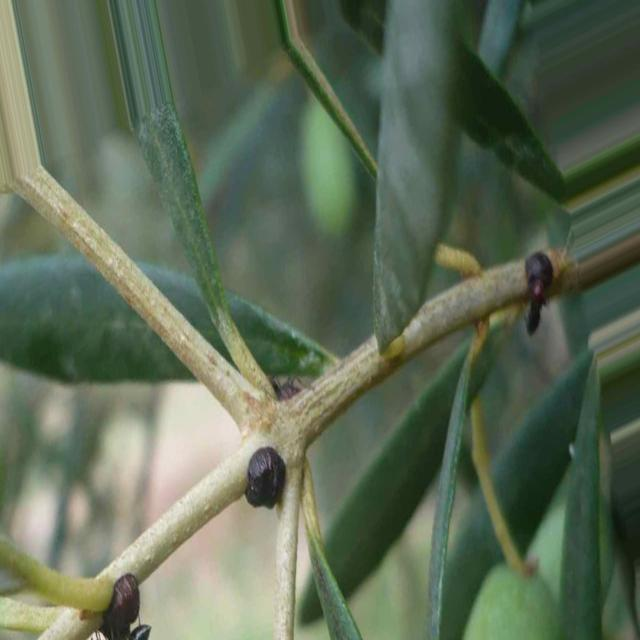Black Scale: (100, 573, 140, 639), (244, 446, 286, 508), (525, 251, 556, 306)
